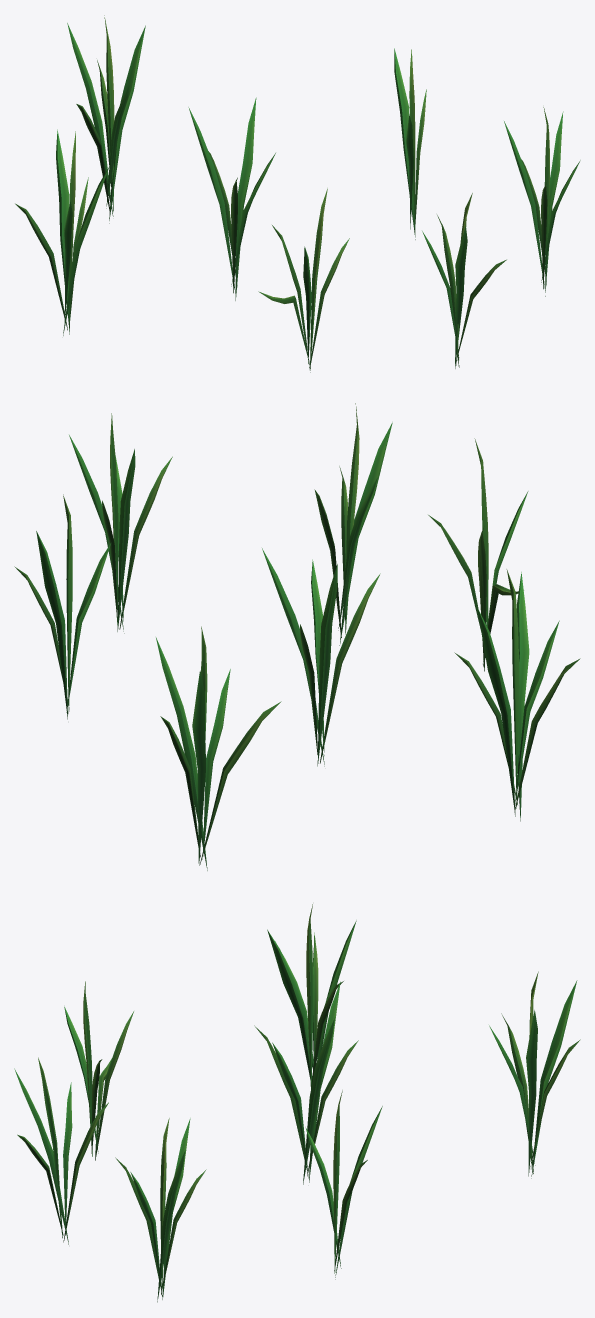
File: SM_Plant_Onion_Lv1.fbx
The picture shows the model from 3 angles, top to bottom: view 1: azimuth 30°, elevation 25°; view 2: azimuth 150°, elevation 25°; view 3: azimuth 270°, elevation 25°; orthographic projection. The views are drawn at different scales.
Parts seen in each view (by area): view 1: SM_Plant_Onion_Lv1; view 2: SM_Plant_Onion_Lv1; view 3: SM_Plant_Onion_Lv1.
Boxes of the visible parts, x1=… form: SM_Plant_Onion_Lv1: x1=15, y1=15, x2=580, y2=372; SM_Plant_Onion_Lv1: x1=14, y1=403, x2=580, y2=870; SM_Plant_Onion_Lv1: x1=14, y1=904, x2=580, y2=1302.
Bounding box in the file's own units: 69.37 × 29.58 × 69.42.
